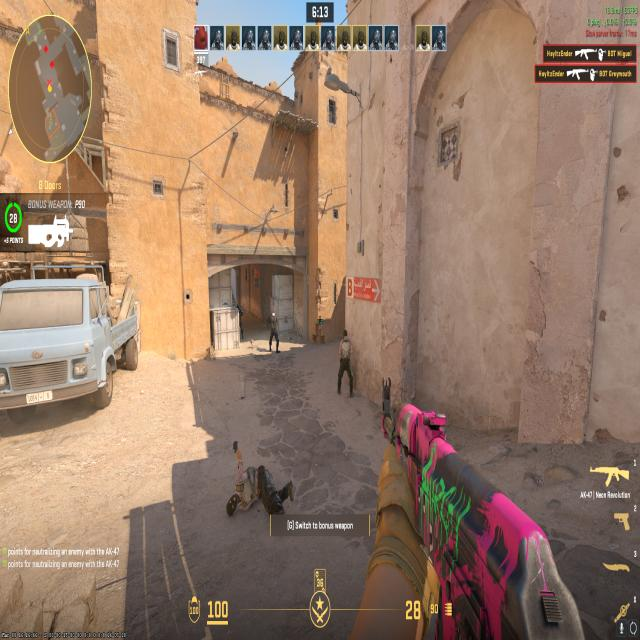ct: (266, 305, 280, 356), (233, 298, 245, 340)
t: (334, 324, 355, 401)
